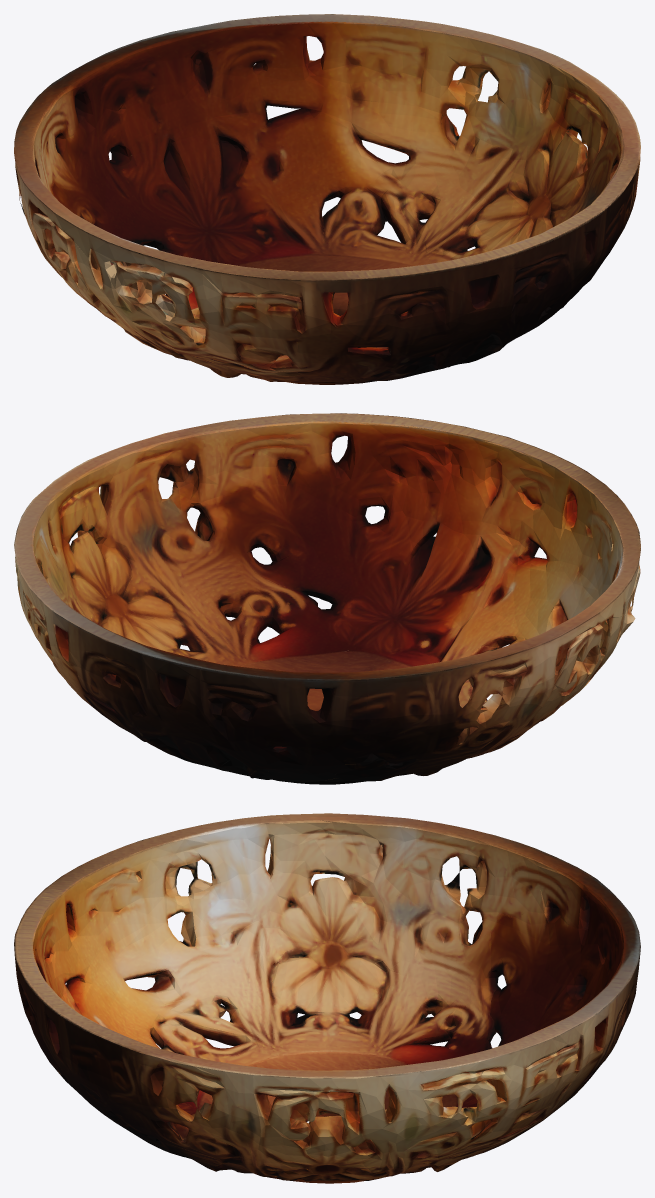
File: coconut-shell-bowl-vintage.jpeg.glb
3 renders of one model, top to bottom at view 1: azimuth 30°, elevation 25°; view 2: azimuth 150°, elevation 25°; view 3: azimuth 270°, elevation 25°, orthographic.
Visible parts, largest first — view 1: world; view 2: world; view 3: world.
Boxes of the visible parts, x1=… form: world: x1=14, y1=14, x2=640, y2=384; world: x1=14, y1=413, x2=640, y2=784; world: x1=14, y1=813, x2=640, y2=1183.
Size of the model in its own units: 0.9993 by 0.3355 by 1.
1 material, 1 textured.
